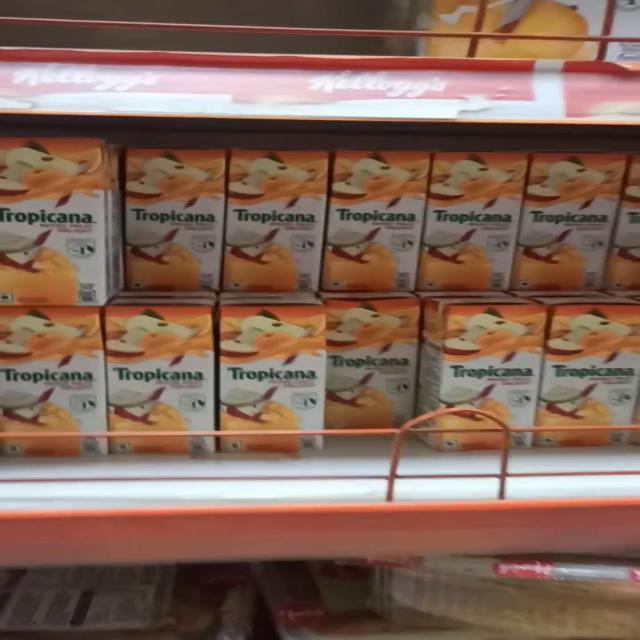Tropicana: (430, 299, 544, 456), (216, 302, 332, 456), (105, 298, 213, 462), (223, 141, 339, 293), (0, 305, 102, 461), (124, 146, 222, 293), (337, 146, 429, 295), (438, 149, 526, 296), (530, 143, 620, 285)
